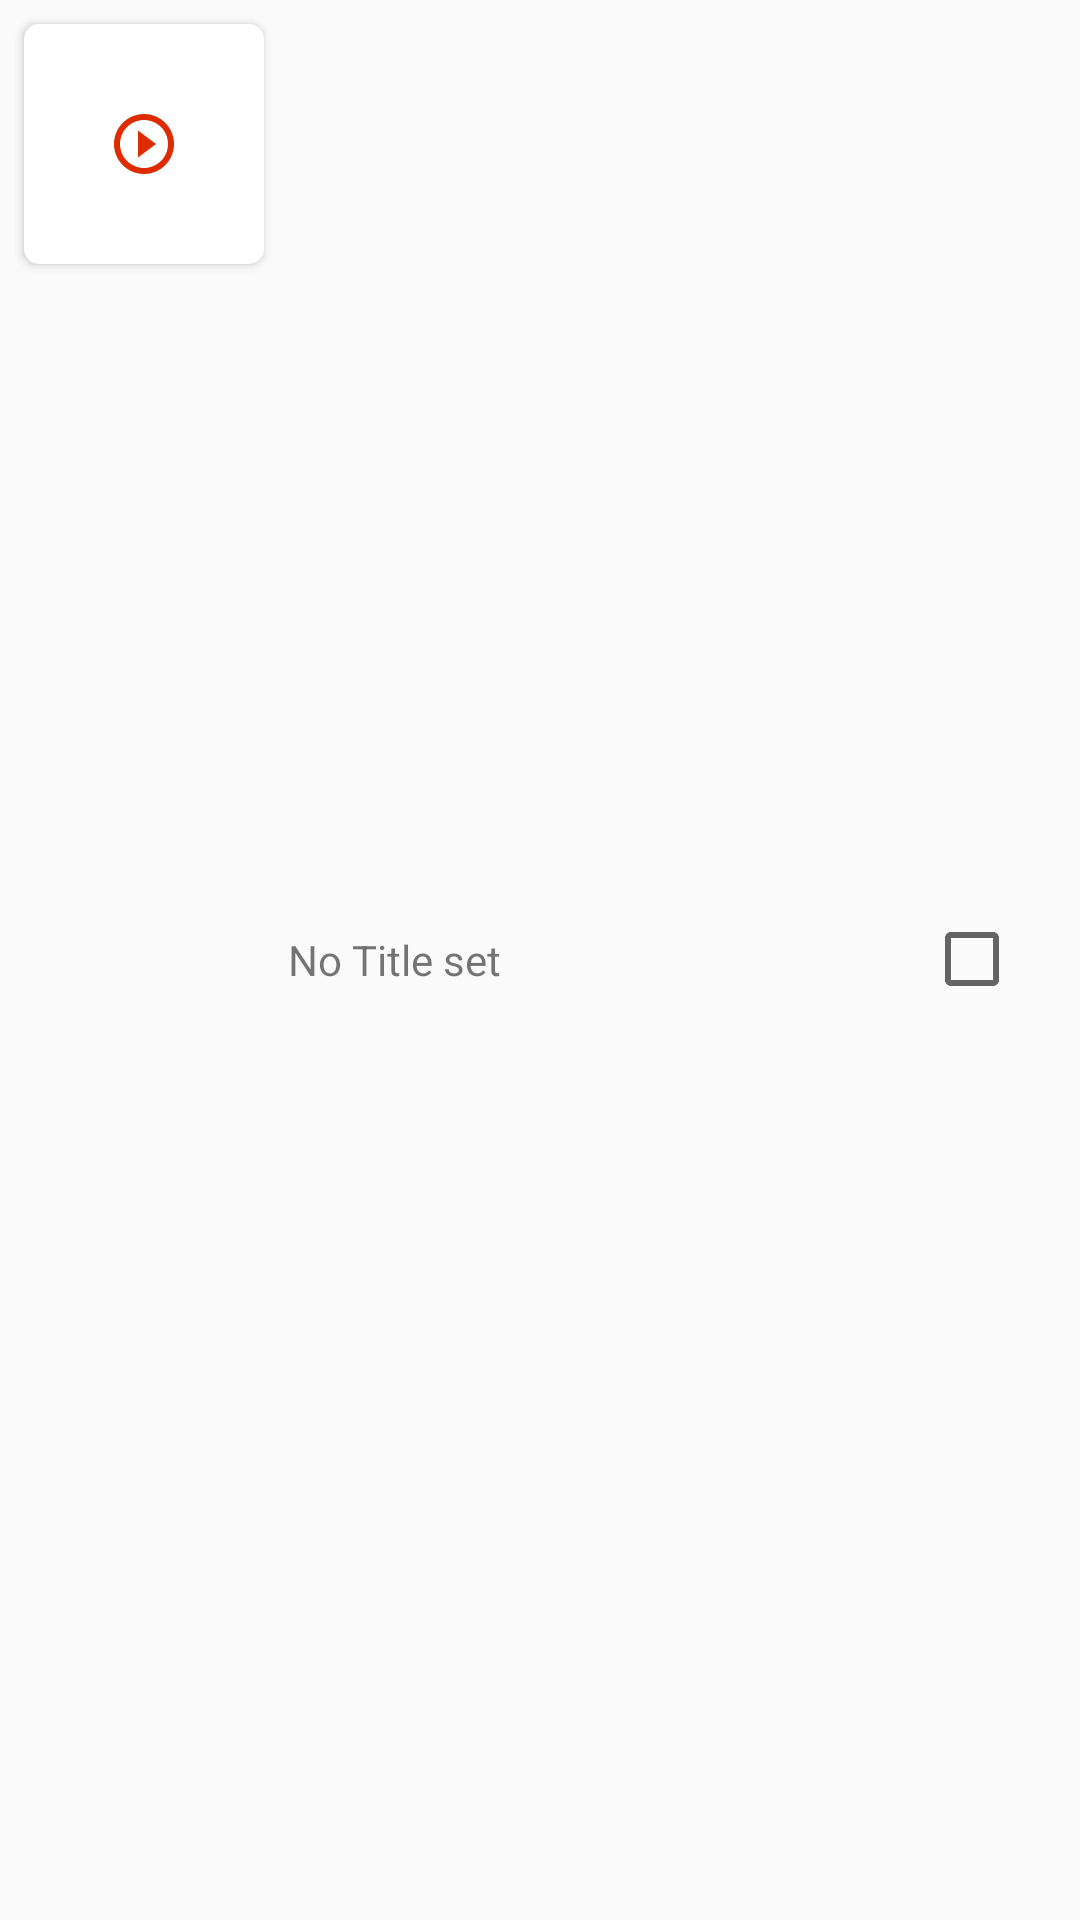

Locate icon controls on the screen. Image size 1080px×1920px, boxes as (x1, y1, x2, y2).
play circle: (114, 114, 174, 174)
